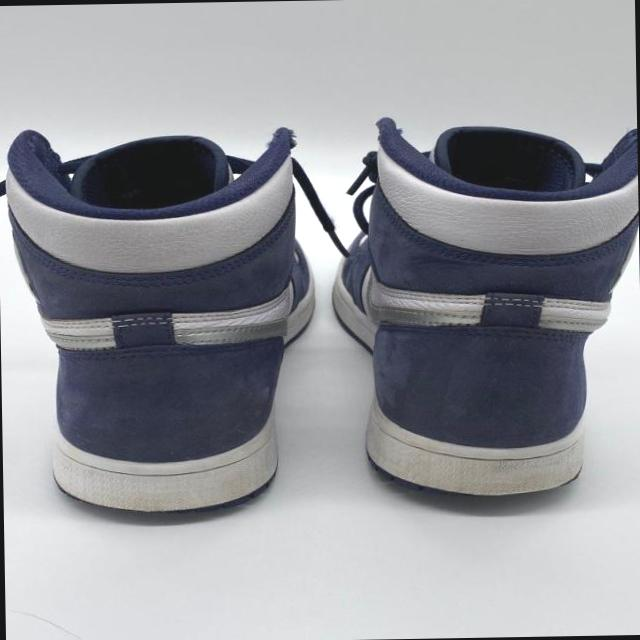nike_original_jordan: (322, 107, 640, 505), (0, 129, 315, 525)
